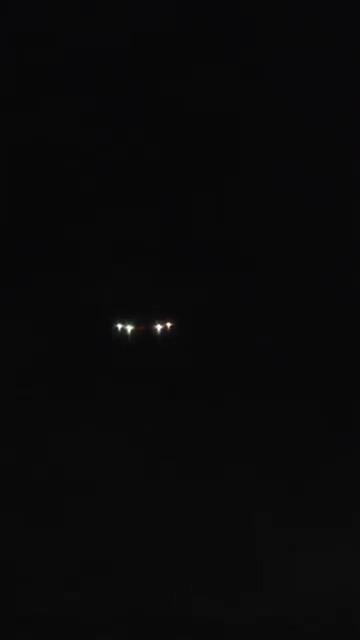Plane: (86, 277, 197, 370)
